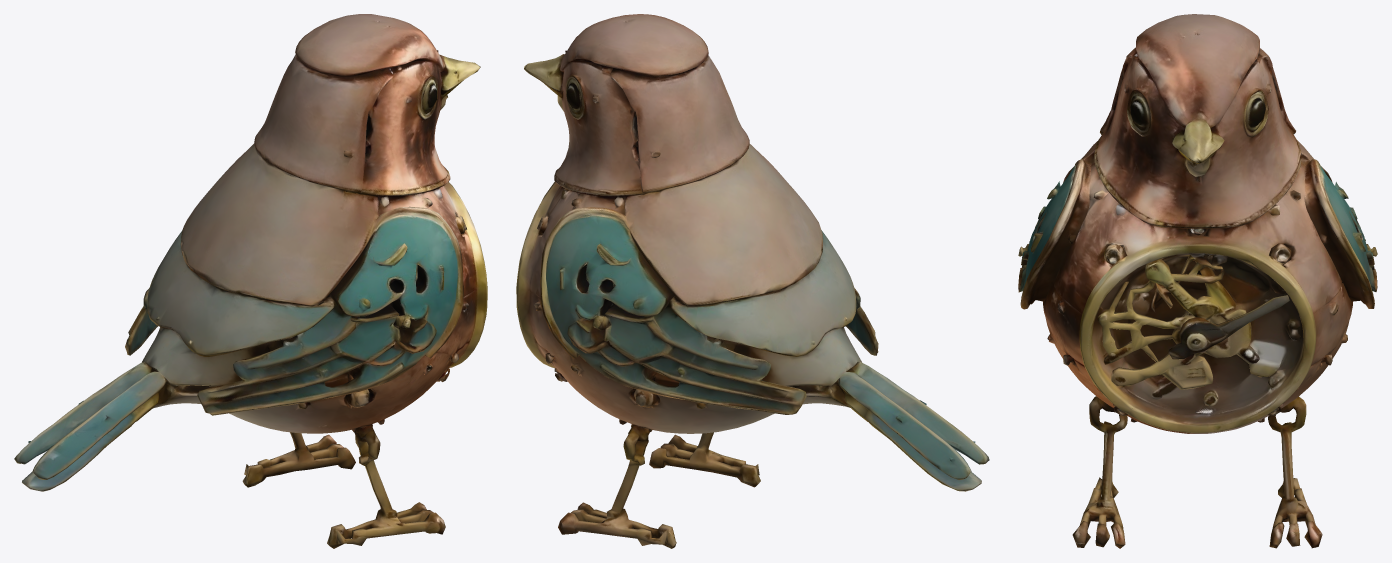
Rendered from clockwork-bird.glb.
3 renders of one model, left to right at view 1: azimuth 30°, elevation 25°; view 2: azimuth 150°, elevation 25°; view 3: azimuth 270°, elevation 25°, orthographic. The views are drawn at different scales.
Visible parts, largest first — view 1: tripo_node_b4d9ed15-8c1d-4016-9a6e-835112a59f4e; view 2: tripo_node_b4d9ed15-8c1d-4016-9a6e-835112a59f4e; view 3: tripo_node_b4d9ed15-8c1d-4016-9a6e-835112a59f4e.
Boxes of the visible parts, <box> form: tripo_node_b4d9ed15-8c1d-4016-9a6e-835112a59f4e: <box>14,14,487,548</box>; tripo_node_b4d9ed15-8c1d-4016-9a6e-835112a59f4e: <box>516,14,989,548</box>; tripo_node_b4d9ed15-8c1d-4016-9a6e-835112a59f4e: <box>1018,14,1377,548</box>.
Bounding box in the file's own units: 0.9989 × 1 × 0.6349.
1 material, 1 textured.
